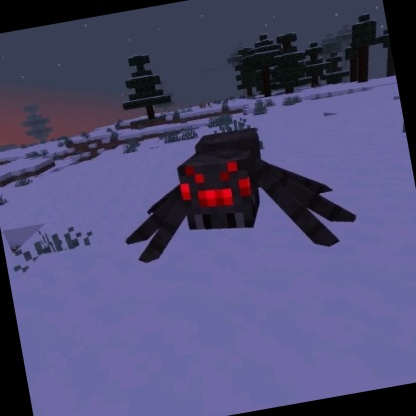spider: (104, 108, 364, 286)
